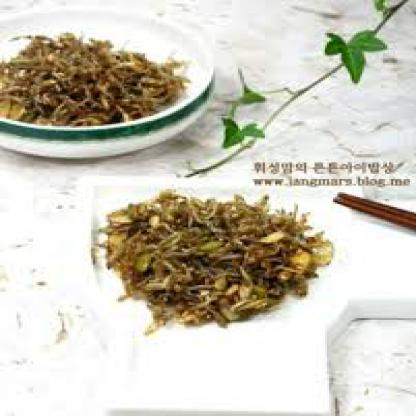stir-fried anchovies: (101, 192, 334, 323), (0, 30, 199, 126)
